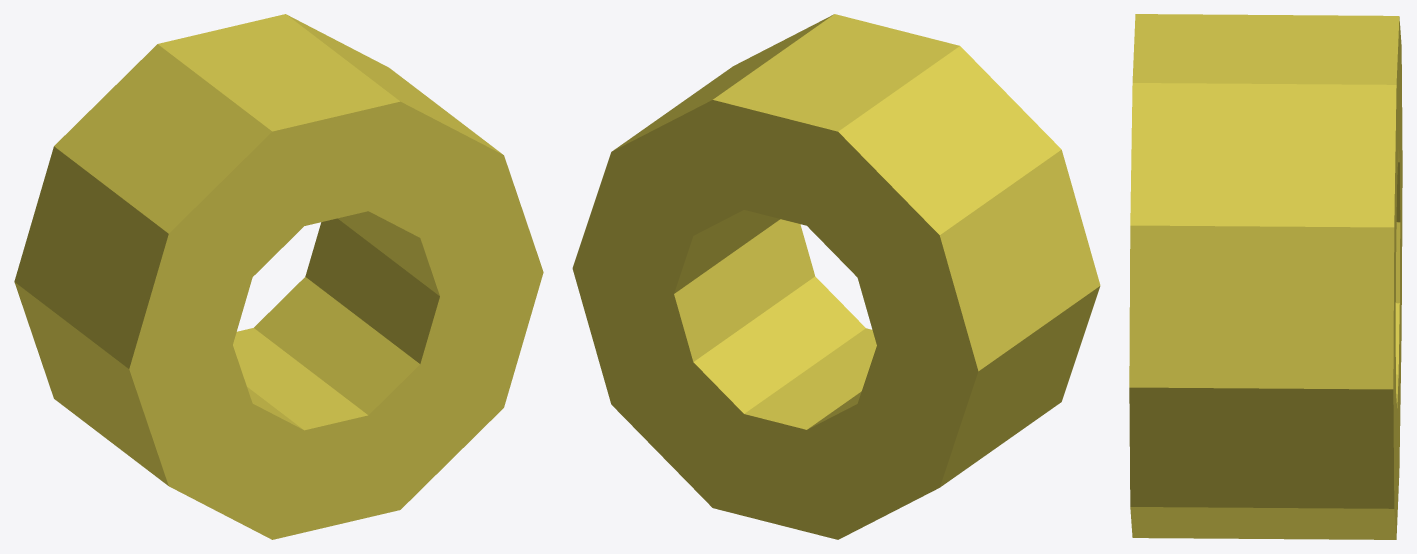
The model's file is wheel2.glb.
The picture shows the model from 3 angles, left to right: view 1: azimuth 30°, elevation 25°; view 2: azimuth 150°, elevation 25°; view 3: azimuth 270°, elevation 25°; orthographic projection. The views are drawn at different scales.
Visible parts, largest first — view 1: Mesh_Mesh_head_geo.001_lambert2SG.001; view 2: Mesh_Mesh_head_geo.001_lambert2SG.001; view 3: Mesh_Mesh_head_geo.001_lambert2SG.001.
Boxes of the visible parts, x1,y1,x2,y2 form: Mesh_Mesh_head_geo.001_lambert2SG.001: (14, 14, 543, 539); Mesh_Mesh_head_geo.001_lambert2SG.001: (572, 14, 1100, 539); Mesh_Mesh_head_geo.001_lambert2SG.001: (1129, 14, 1402, 539).
Bounding box in the file's own units: 0.00403 × 0.0038 × 0.00207.
